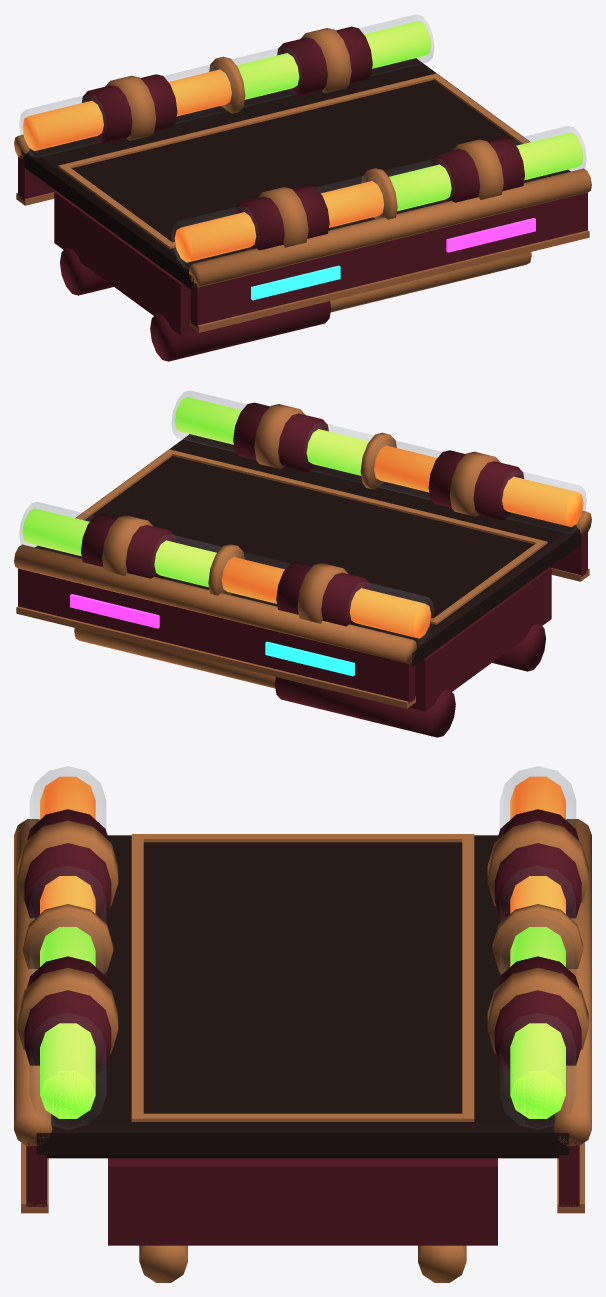
The model's file is Deck_Retract.glb.
The picture shows the model from 3 angles, top to bottom: view 1: azimuth 30°, elevation 25°; view 2: azimuth 150°, elevation 25°; view 3: azimuth 270°, elevation 25°; orthographic projection. The views are drawn at different scales.
Visible parts, largest first — view 1: CP_Deck_Retract; view 2: CP_Deck_Retract; view 3: CP_Deck_Retract.
Boxes of the visible parts, x1,y1,x2,y2 form: CP_Deck_Retract: (14, 15, 591, 361); CP_Deck_Retract: (14, 391, 591, 737); CP_Deck_Retract: (14, 766, 591, 1282).
Size of the model in its own units: 4 by 1.66 by 3.32.
